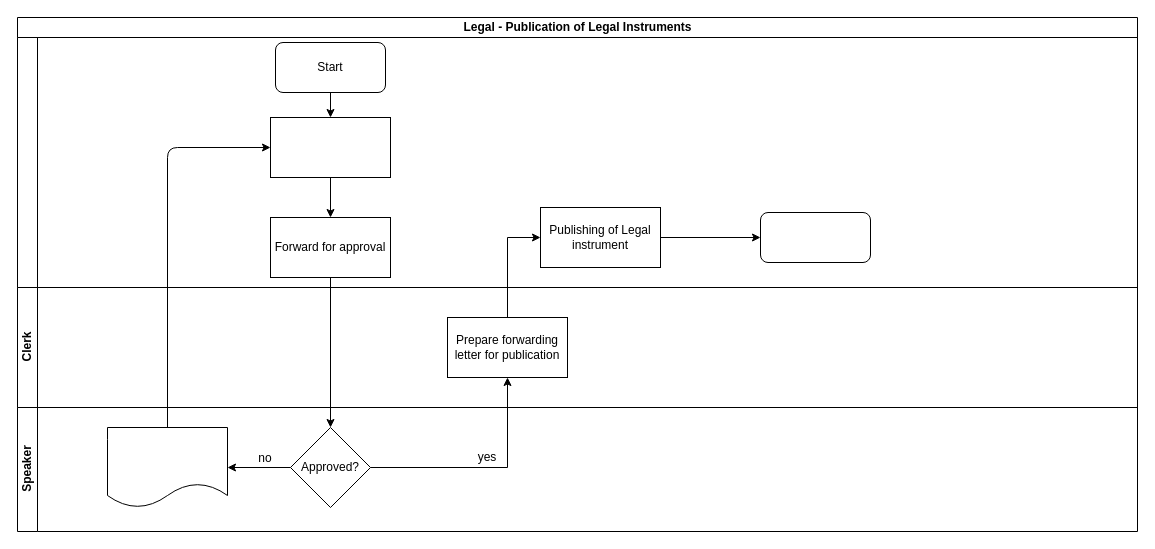
The diagram is 1155 pixels wide and 549 high, and some of its shapes have lost their labels. Here are the shapes that lost their labels. From the top down, the box of each, then its label:
(270, 116, 390, 178): Drafting of Legal Instrument
(16, 36, 1138, 288): Legal Counsel
(760, 212, 870, 262): End
(106, 426, 228, 508): Note to legal counsel
